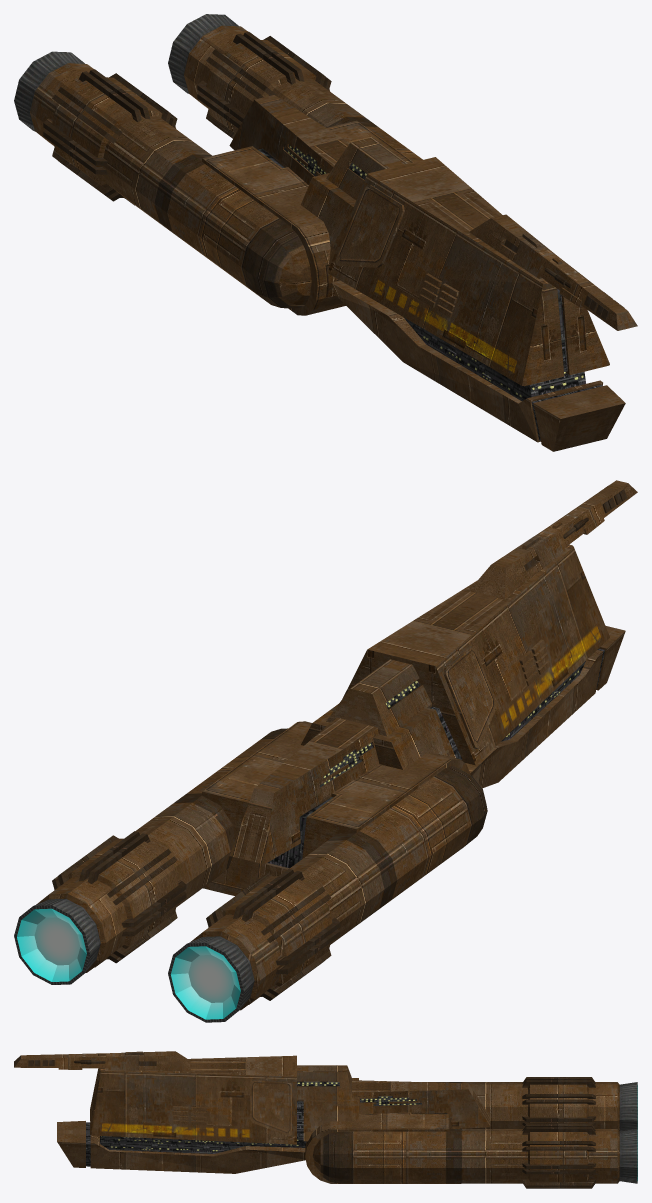
Rendered from TOR_Support_Ship02.obj.
The picture shows the model from 3 angles, top to bottom: view 1: azimuth 30°, elevation 25°; view 2: azimuth 150°, elevation 25°; view 3: azimuth 270°, elevation 25°; orthographic projection. The views are drawn at different scales.
Parts seen in each view (by area): view 1: Hull; view 2: Hull, Lights; view 3: Hull, Lights.
Part boxes in pixels (bbox=[...]): Hull: bbox=[14, 14, 637, 451]; Hull: bbox=[14, 480, 637, 1022]; Lights: bbox=[17, 670, 579, 1019]; Hull: bbox=[14, 1051, 637, 1188]; Lights: bbox=[101, 1082, 637, 1180].
Size of the model in its own units: 59.2 by 40.78 by 209.
